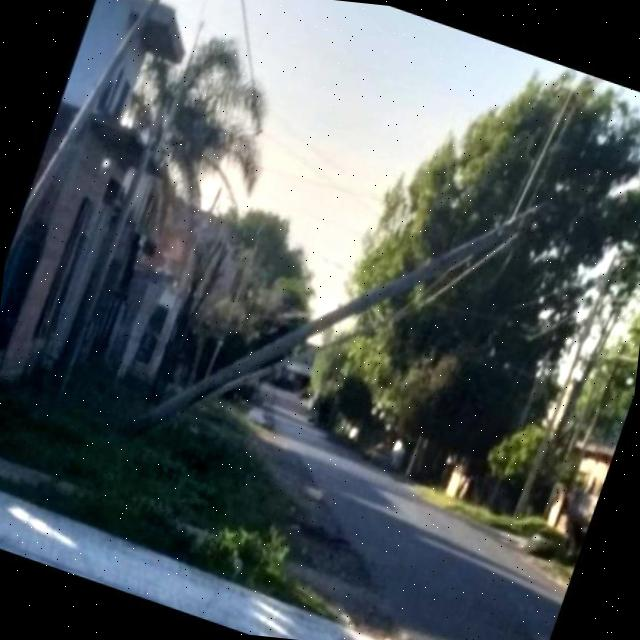Broken Pole: (125, 199, 550, 433)
